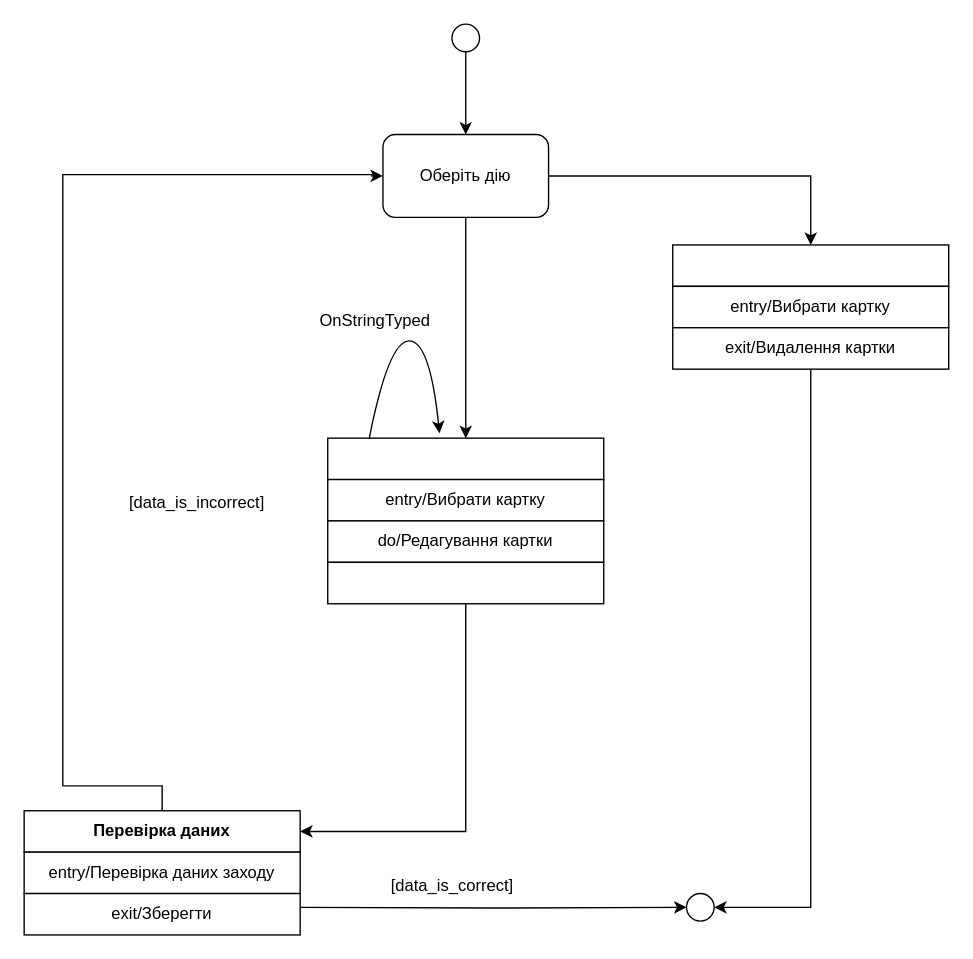
This 973x959 diagram has some shape labels left out. The shapes that lost their labels are listed below. From the top down, each one's centre as x and y in pixels, then its label:
(x=810, y=265): Видалити картку
(x=465, y=458): Редагувати картки
(x=465, y=582): exit/ Підтвердження редагування картки
